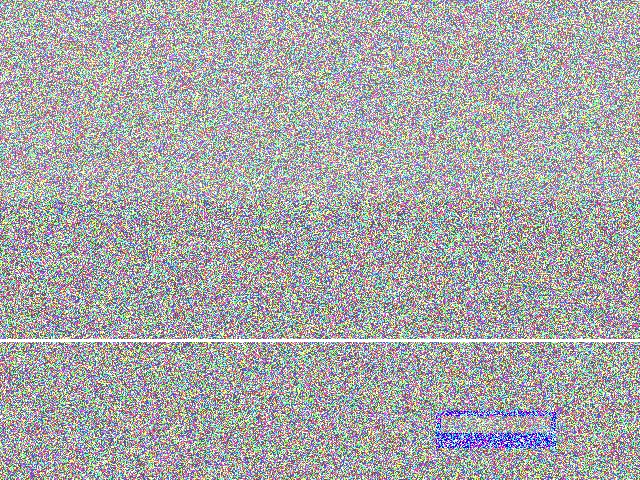car: (404, 269, 469, 363)
motorcycle: (324, 286, 484, 428)
truck: (354, 247, 491, 374)
